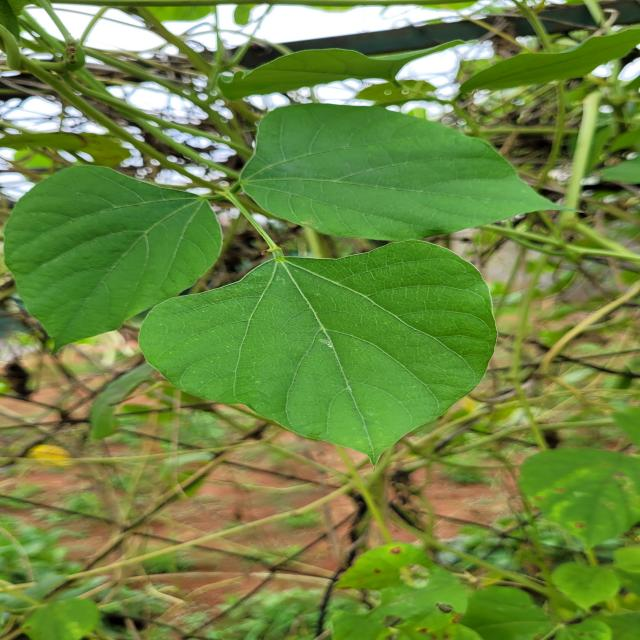Dolicos bean_cercospora leaf spot: (517, 435, 640, 566), (336, 538, 481, 640)
Dolicos bean_healthy: (144, 237, 506, 466), (0, 160, 222, 352), (243, 102, 542, 241)
